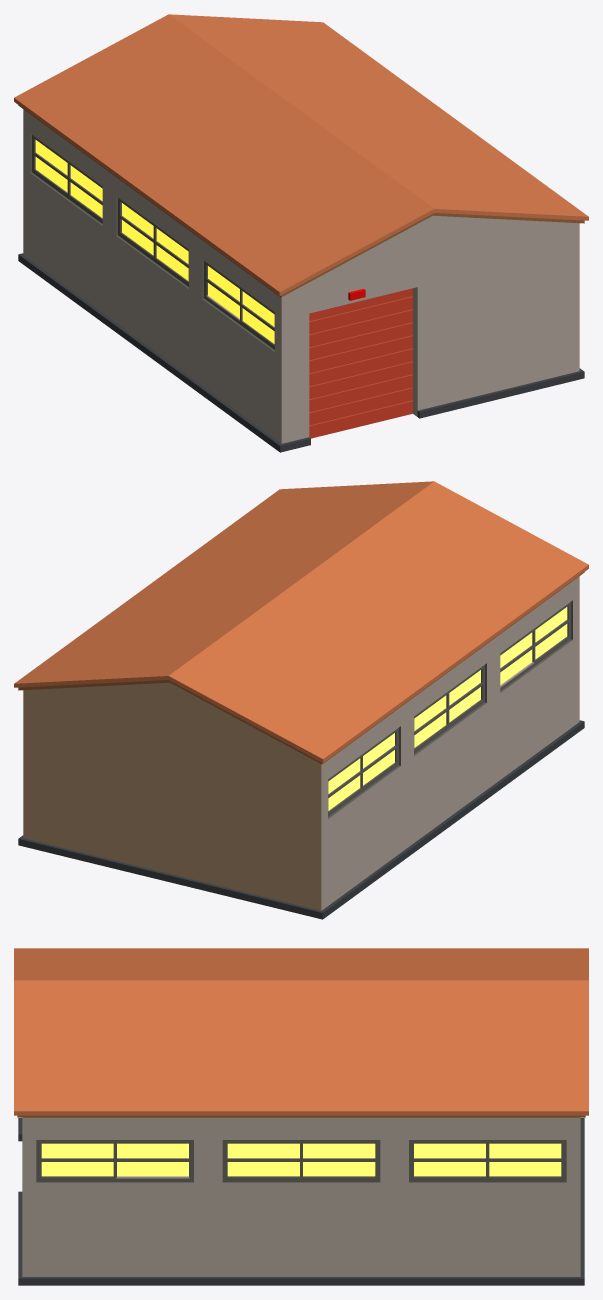
File: SM_building_01.glb
The picture shows the model from 3 angles, top to bottom: view 1: azimuth 30°, elevation 25°; view 2: azimuth 150°, elevation 25°; view 3: azimuth 270°, elevation 25°; orthographic projection. The views are drawn at different scales.
Parts seen in each view (by area): view 1: SM_building_01; view 2: SM_building_01; view 3: SM_building_01.
Boxes of the visible parts, x1,y1,x2,y2 form: SM_building_01: (14, 14, 588, 452); SM_building_01: (14, 481, 588, 919); SM_building_01: (14, 948, 588, 1285).
Bounding box in the file's own units: 8.3 × 5.33 × 12.35.
Materials: 2 (1 with a texture image).
